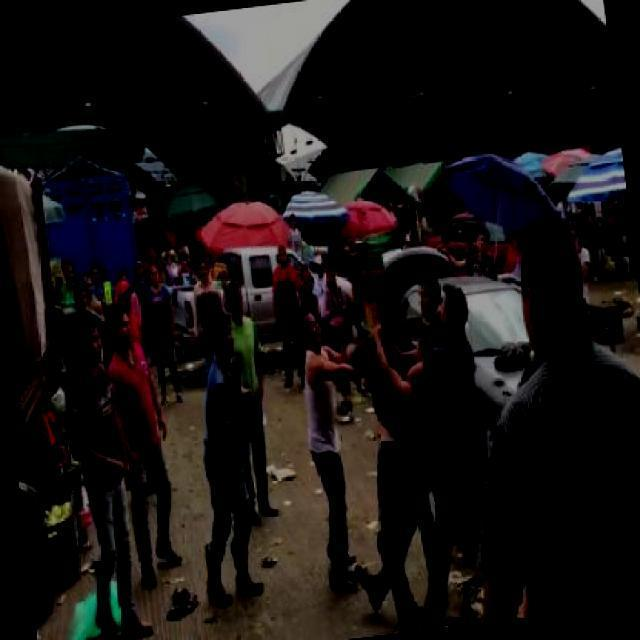fight: (292, 277, 438, 594)
